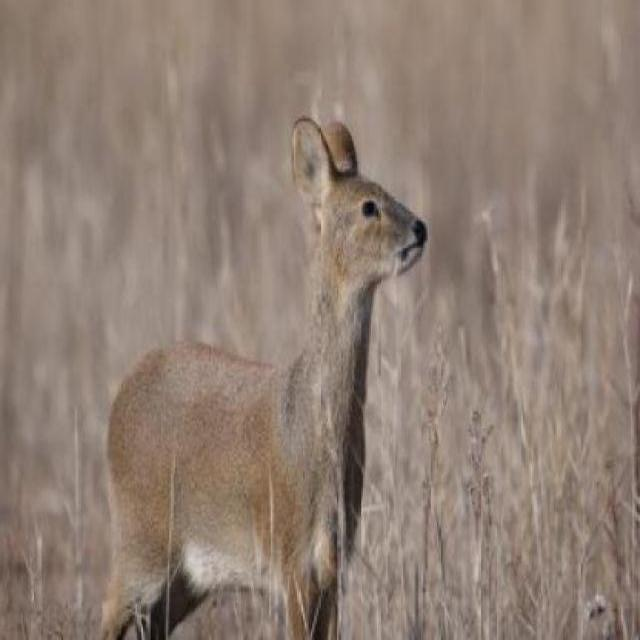deer: (83, 107, 444, 638)
